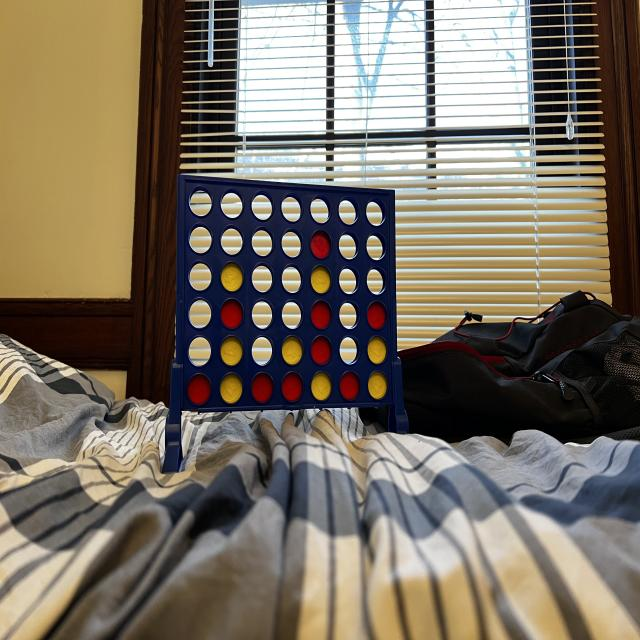Board: (168, 169, 405, 427)
No Piece: (247, 222, 277, 260), (186, 332, 215, 370), (187, 182, 215, 221), (186, 257, 215, 294), (249, 258, 276, 297), (219, 183, 245, 222), (249, 295, 275, 333), (186, 295, 213, 331), (279, 188, 305, 225), (218, 222, 244, 259), (249, 334, 278, 367), (334, 298, 362, 332), (187, 221, 213, 257), (279, 260, 305, 296), (336, 334, 364, 367), (363, 229, 390, 263), (249, 188, 275, 222), (279, 297, 305, 331), (336, 261, 361, 296), (280, 226, 305, 260), (336, 229, 361, 263), (365, 262, 388, 298), (338, 193, 362, 227), (309, 192, 332, 225), (365, 195, 387, 227)
Red Piece: (278, 370, 308, 405), (249, 368, 276, 404), (307, 228, 335, 262), (307, 294, 333, 330), (186, 372, 213, 405), (220, 298, 246, 332), (338, 369, 362, 402), (310, 336, 334, 366), (366, 300, 388, 330)
Yellow Piece: (218, 372, 245, 407), (220, 332, 246, 368), (220, 259, 244, 294), (310, 369, 334, 402), (281, 333, 304, 367), (366, 368, 389, 400), (309, 262, 332, 294), (367, 333, 388, 365)
